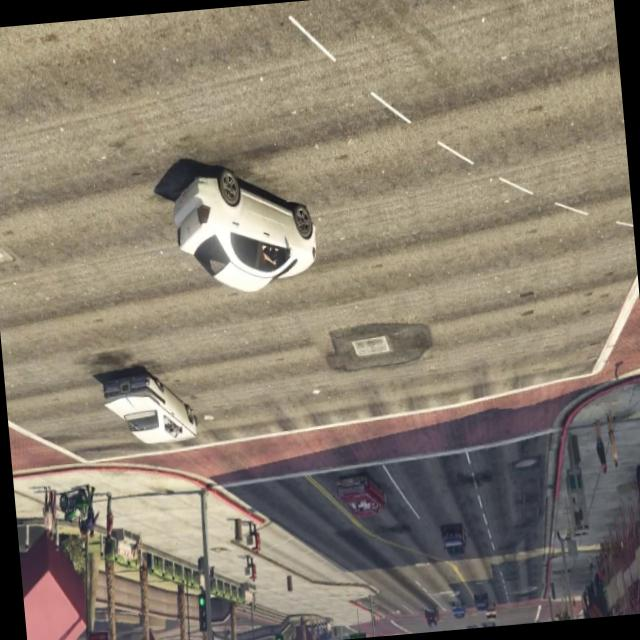Green-Signal: (184, 565, 217, 640), (344, 622, 370, 639), (268, 620, 285, 640)
